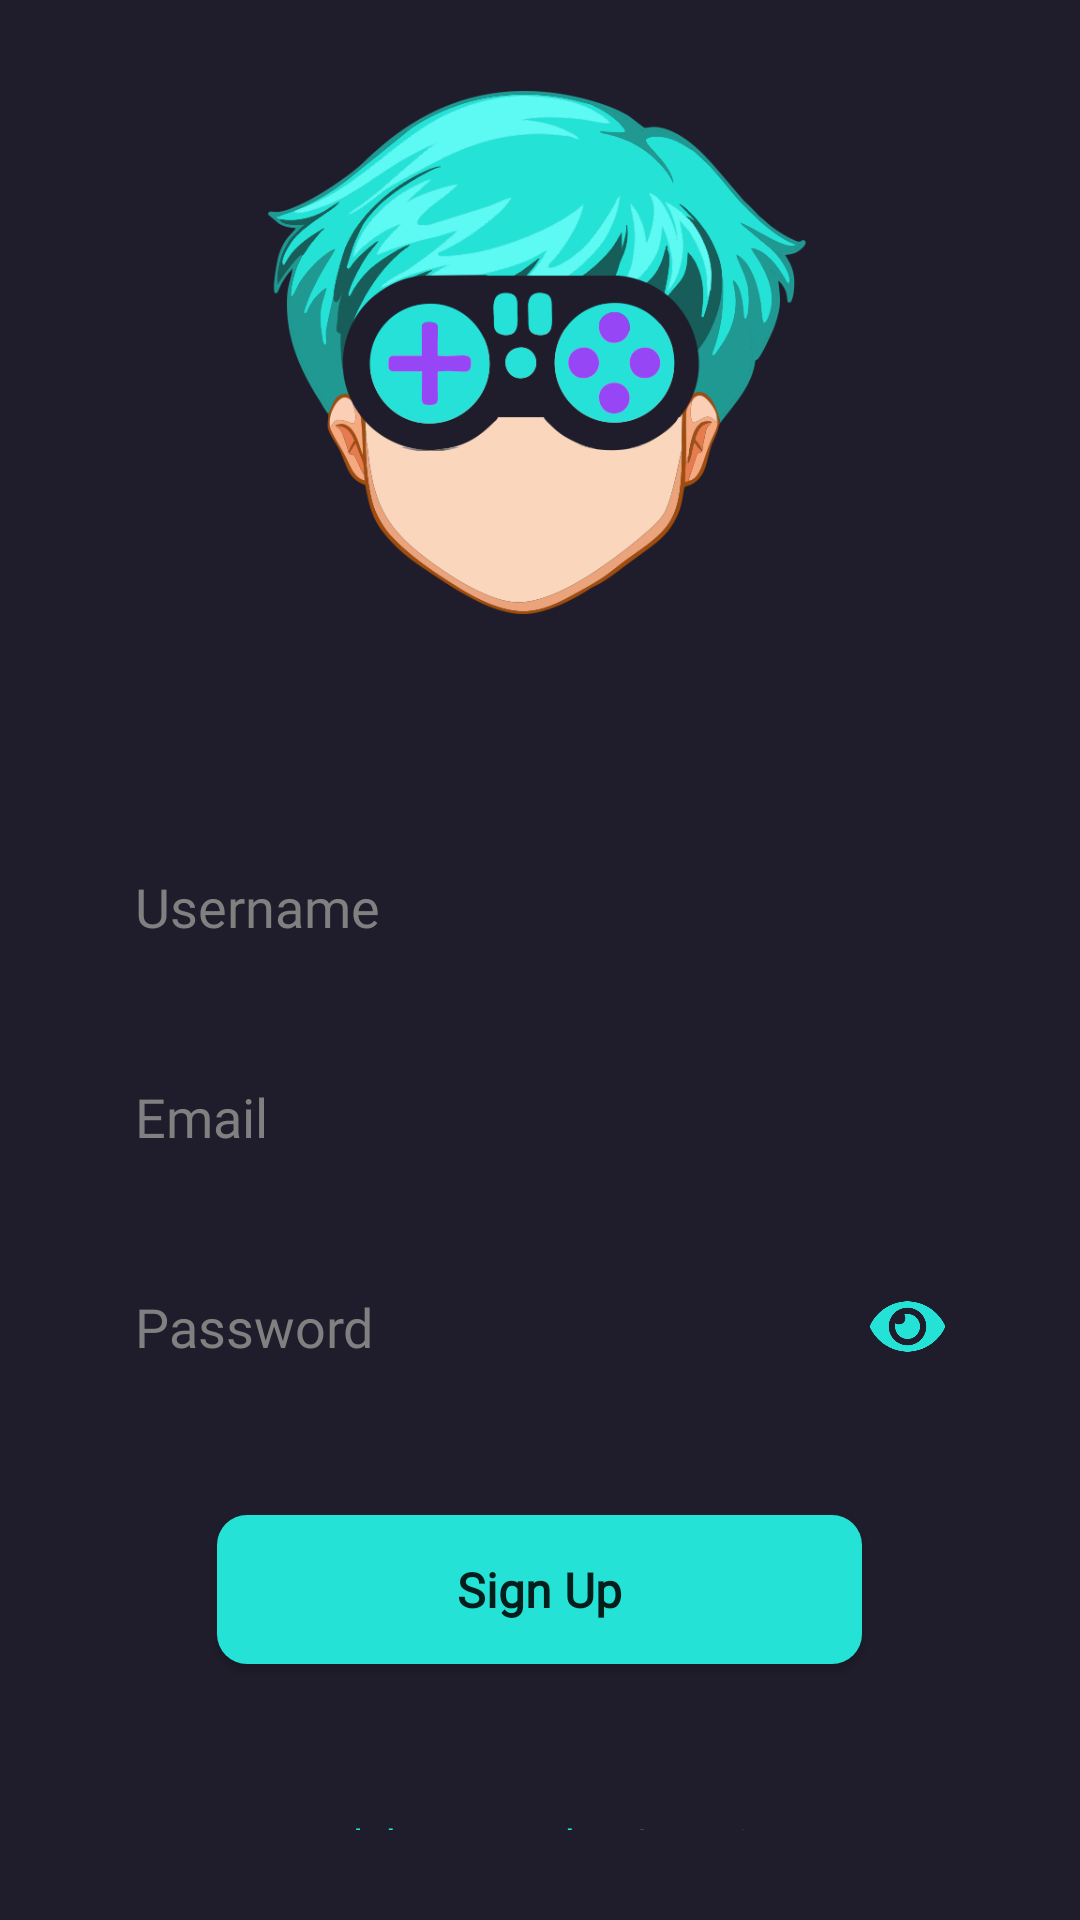

Where icons sit on this 1080*1920 app screen, as (x1, y1, x2, y2):
eye opened: (870, 1301, 945, 1352)
